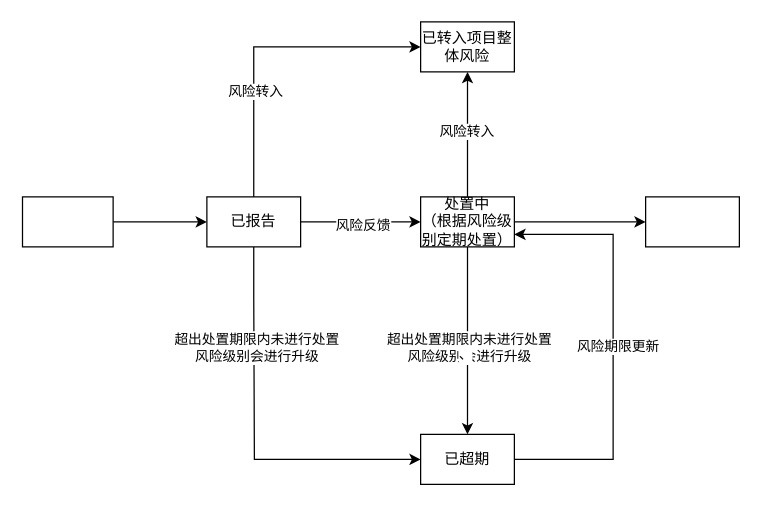
This 761x506 diagram has some shape labels left out. The centre of each missing label's shape, as x and y in pixels:
已办结: point (691, 221)
报告中: point (67, 221)
